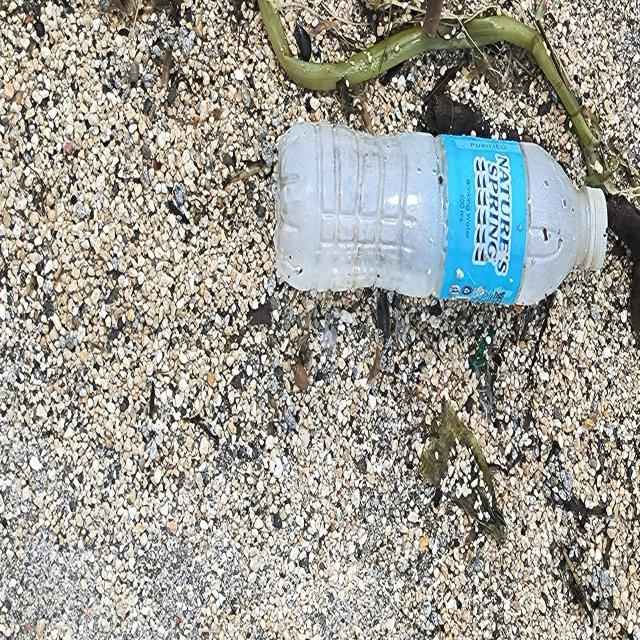plastic_waste: (275, 123, 610, 309)
